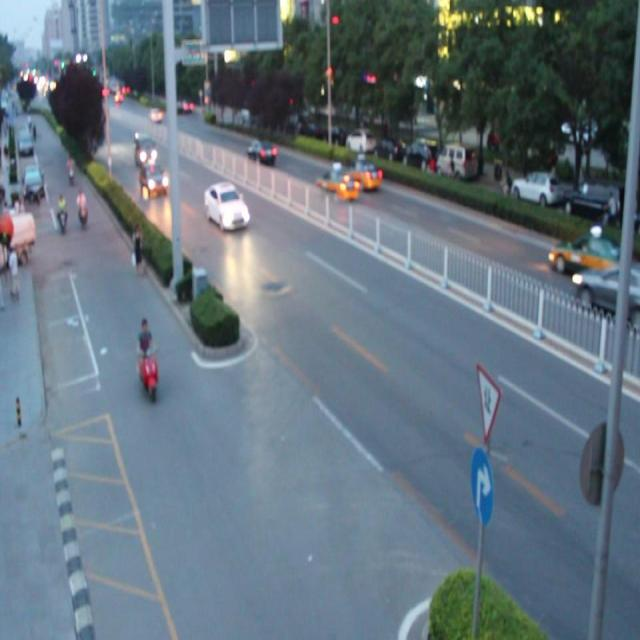car: (572, 260, 640, 323), (549, 228, 626, 275), (203, 182, 249, 226), (314, 164, 356, 202), (341, 152, 381, 190), (245, 134, 275, 163), (141, 166, 167, 192)
truck: (133, 128, 156, 166)
